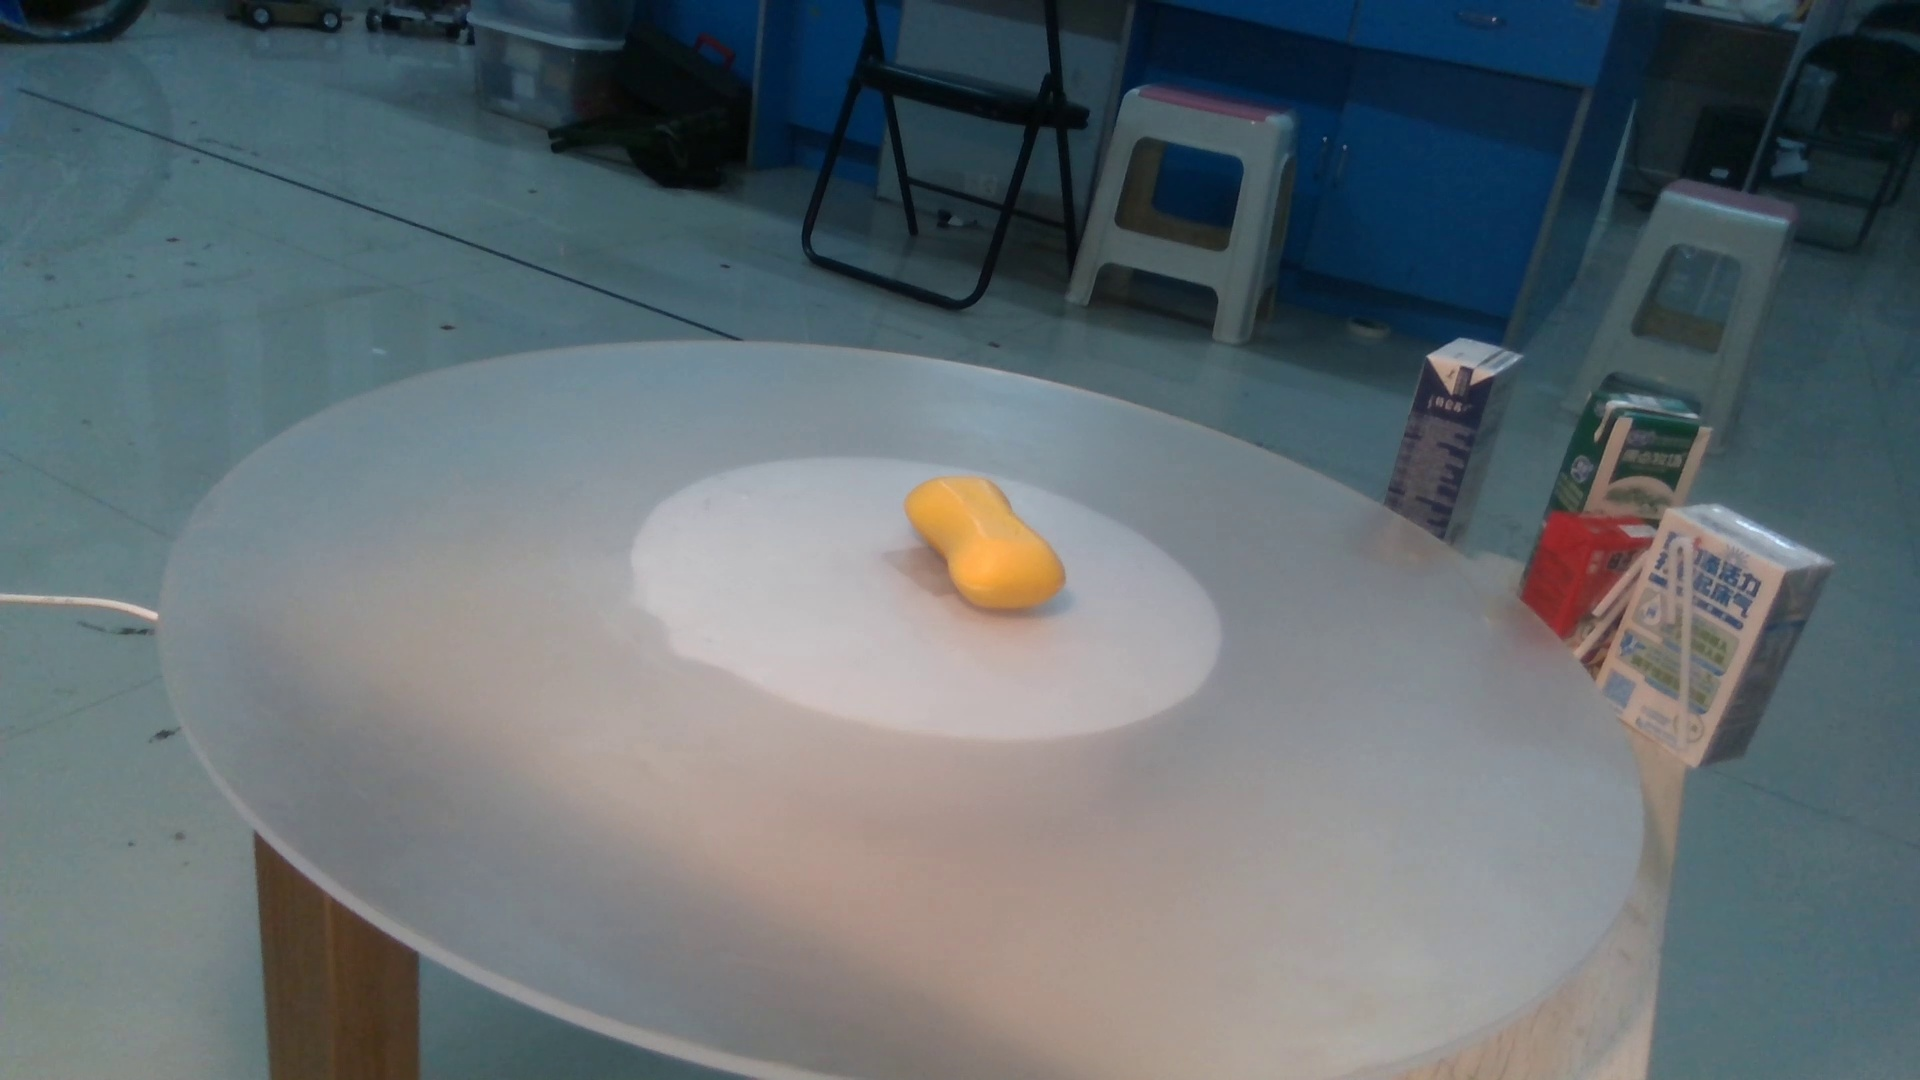CA003_1: (861, 458, 1129, 644)
